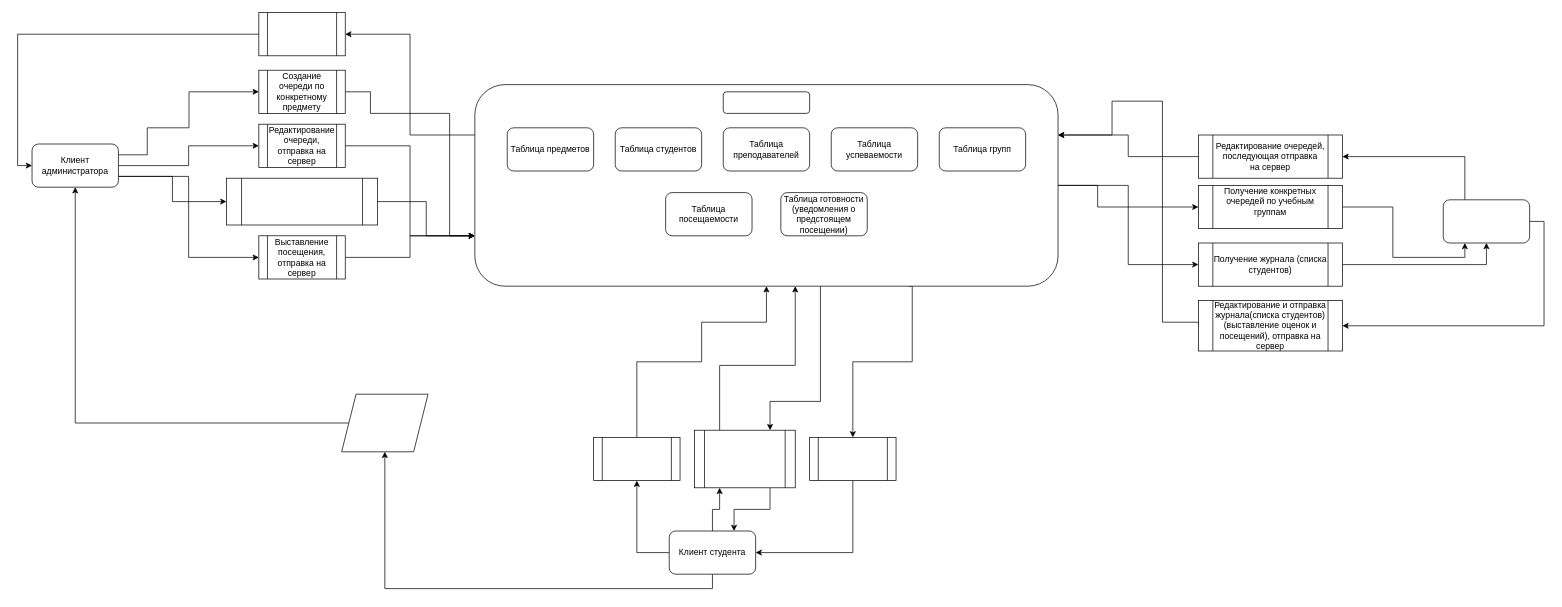
This 1562x607 diagram has some shape labels left out. Here are the shapes that lost their labels. From the top down, the box of each, then its label:
(258, 12, 345, 56): Получение списка предметов
(723, 91, 810, 113): Сервер
(226, 177, 378, 225): Создание группы, добавление и удаление студентов, отправка на сервер
(1443, 199, 1530, 243): Клиент преподавателя
(341, 393, 428, 452): Администратор наследует все возможности студента
(593, 437, 680, 481): Запись в конец очереди, отправка на сервер
(694, 429, 795, 488): Уведомление-подтверждение о готовности к сдаче работ (присутствие )
(809, 437, 896, 481): Получение очереди по предмету
